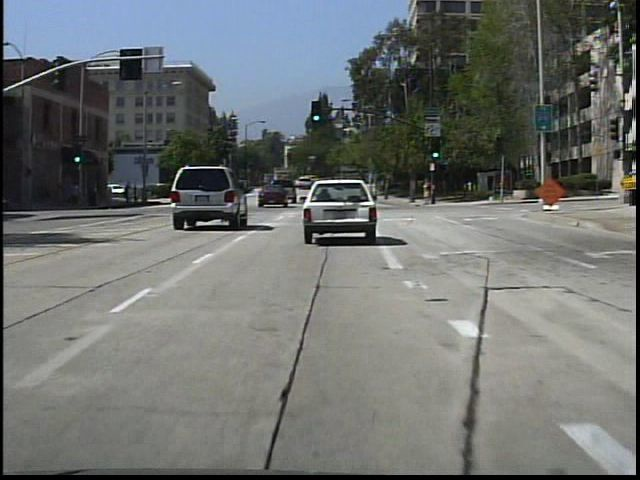person: (418, 174, 434, 209)
